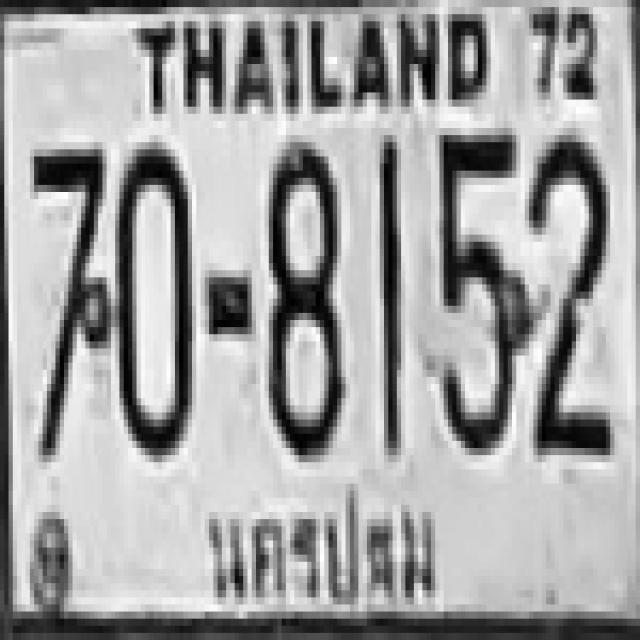0: (113, 138, 190, 452)
1: (378, 135, 403, 455), (378, 138, 399, 452)
2: (527, 128, 608, 455), (525, 128, 606, 427)
5: (435, 128, 525, 448)
7: (30, 142, 107, 455)
8: (264, 138, 342, 452)
NakhonPathom: (202, 468, 433, 627)
